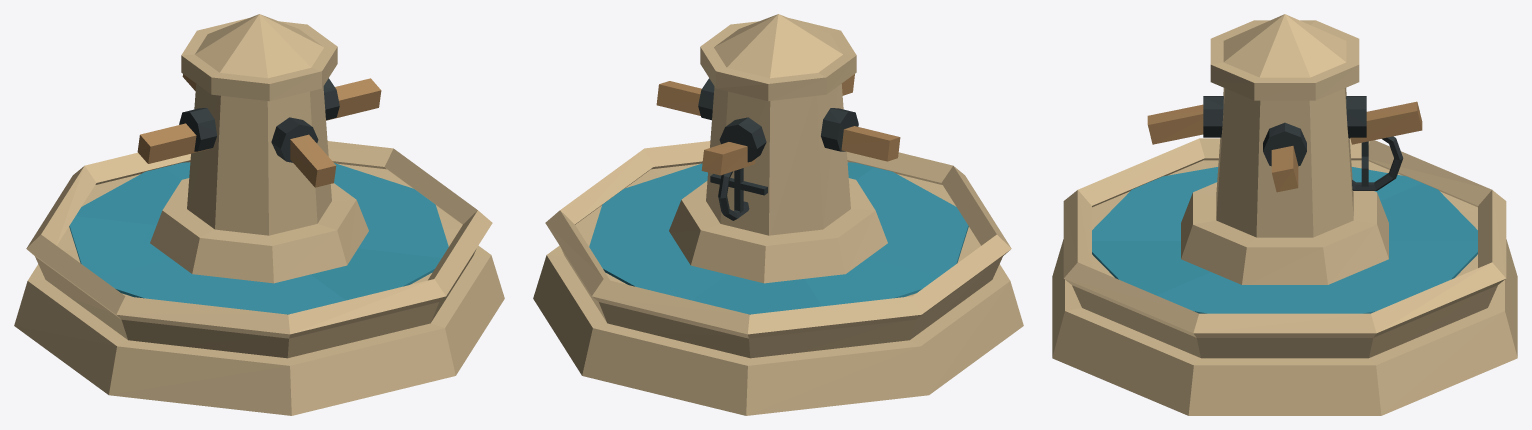
Rendered from Fountain.glb.
The picture shows the model from 3 angles, left to right: view 1: azimuth 30°, elevation 25°; view 2: azimuth 150°, elevation 25°; view 3: azimuth 270°, elevation 25°; orthographic projection.
Parts seen in each view (by area): view 1: fountain-static-fountain-pale-stone-basin-pedestal, fountain-static-fountain-solid-blue-green-water, fountain-static-fountain-cream-trim, fountain-static-fountain-muted-teal-spout-accents, fountain-static-fountain-charcoal-pipe-valve; view 2: fountain-static-fountain-pale-stone-basin-pedestal, fountain-static-fountain-solid-blue-green-water, fountain-static-fountain-cream-trim, fountain-static-fountain-charcoal-pipe-valve, fountain-static-fountain-muted-teal-spout-accents; view 3: fountain-static-fountain-pale-stone-basin-pedestal, fountain-static-fountain-cream-trim, fountain-static-fountain-solid-blue-green-water, fountain-static-fountain-muted-teal-spout-accents, fountain-static-fountain-charcoal-pipe-valve.
Part boxes in pixels (box(x1,y1,x2,y2)): fountain-static-fountain-pale-stone-basin-pedestal: box(14, 14, 504, 415); fountain-static-fountain-solid-blue-green-water: box(69, 162, 448, 314); fountain-static-fountain-cream-trim: box(26, 18, 492, 338); fountain-static-fountain-muted-teal-spout-accents: box(137, 74, 381, 187); fountain-static-fountain-charcoal-pipe-valve: box(179, 78, 339, 162); fountain-static-fountain-pale-stone-basin-pedestal: box(533, 14, 1023, 415); fountain-static-fountain-solid-blue-green-water: box(589, 162, 968, 314); fountain-static-fountain-cream-trim: box(545, 18, 1011, 338); fountain-static-fountain-charcoal-pipe-valve: box(698, 78, 858, 220); fountain-static-fountain-muted-teal-spout-accents: box(656, 74, 900, 175); fountain-static-fountain-pale-stone-basin-pedestal: box(1052, 14, 1517, 415); fountain-static-fountain-cream-trim: box(1063, 20, 1506, 337); fountain-static-fountain-solid-blue-green-water: box(1092, 167, 1477, 313); fountain-static-fountain-muted-teal-spout-accents: box(1147, 101, 1422, 192); fountain-static-fountain-charcoal-pipe-valve: box(1203, 96, 1403, 190).
Size of the model in its own units: 3.36 by 2.42 by 3.36.
